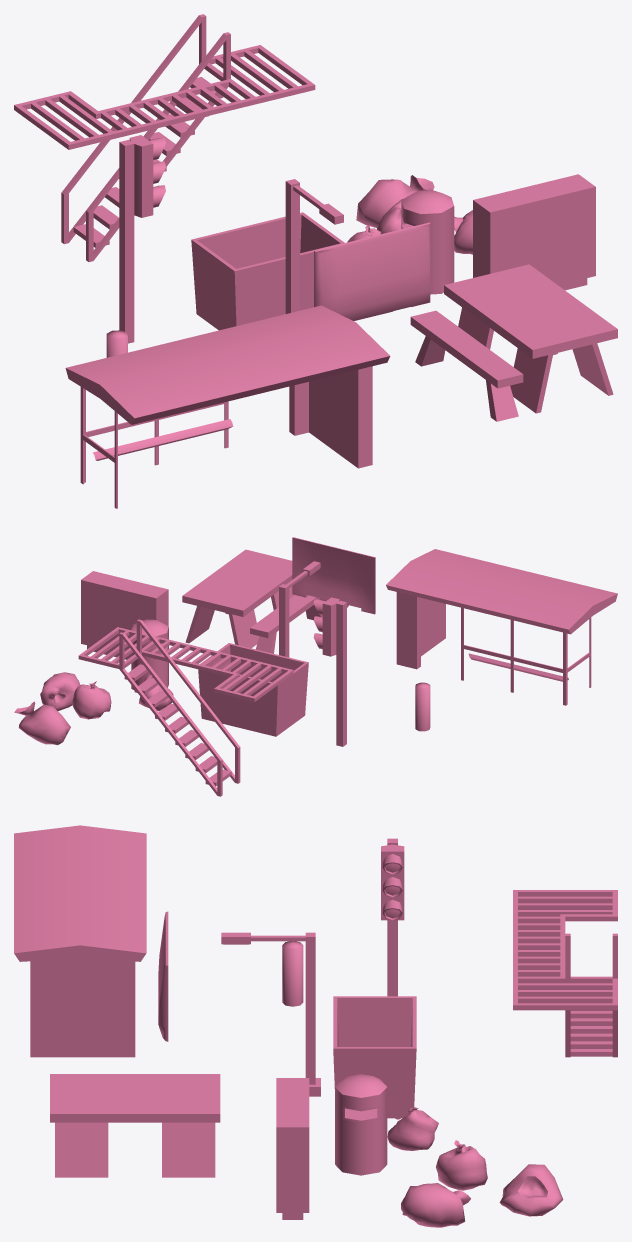
Rendered from Decor.fbx.
3 views of the same model, one above another, from view 1: azimuth 30°, elevation 25°; view 2: azimuth 150°, elevation 25°; view 3: azimuth 270°, elevation 25° (orthographic). The views are drawn at different scales.
Visible parts, largest first — view 1: Bus station, Bench, Fire Escape, Black Box, Big Bin, Big Bin Lid, Traffic Lights, Public Bin, Lamp post, Bin Bag.003, Bin Bag.002; view 2: Bus station, Fire Escape, Bench, Big Bin, Black Box, Big Bin Lid, Traffic Lights, Bin Bag.003, Bin Bag.001, Bin Bag.002, Public Bin, Lamp post (+1 smaller); view 3: Bus station, Bench, Fire Escape, Big Bin, Public Bin, Black Box, Traffic Lights, Lamp post, Bin Bag.002, Bin Bag.003, Bin Bag.001, Bin Bag (+2 smaller).
Part boxes in pixels (x1,y1,x2,y2): Bus station: (65, 305, 390, 508); Bench: (410, 264, 617, 421); Fire Escape: (14, 14, 315, 261); Black Box: (473, 174, 595, 290); Big Bin: (191, 212, 344, 330); Big Bin Lid: (314, 222, 430, 320); Traffic Lights: (119, 135, 165, 343); Public Bin: (401, 190, 454, 294); Lamp post: (285, 179, 343, 313); Bin Bag.003: (356, 175, 434, 227); Bin Bag.002: (454, 210, 472, 254); Bus station: (386, 549, 617, 705); Fire Escape: (78, 619, 293, 796); Bench: (182, 549, 322, 653); Big Bin: (198, 643, 308, 736); Black Box: (81, 571, 168, 659); Big Bin Lid: (292, 537, 375, 614); Traffic Lights: (313, 597, 346, 746); Bin Bag.003: (14, 701, 70, 745); Bin Bag.001: (71, 681, 111, 719); Bin Bag.002: (40, 672, 80, 711); Public Bin: (131, 619, 168, 690); Lamp post: (279, 561, 320, 657); Bus station: (14, 825, 146, 1057); Bench: (50, 1074, 220, 1177); Fire Escape: (513, 890, 617, 1057); Big Bin: (333, 996, 416, 1119); Public Bin: (335, 1074, 387, 1175); Black Box: (276, 1078, 309, 1219); Traffic Lights: (381, 838, 404, 996); Lamp post: (221, 932, 320, 1096); Bin Bag.002: (401, 1183, 470, 1227); Bin Bag.003: (499, 1164, 563, 1216); Bin Bag.001: (436, 1140, 487, 1190); Bin Bag: (387, 1107, 438, 1150).
Size of the model in its own units: 1261 by 448 by 1149.
